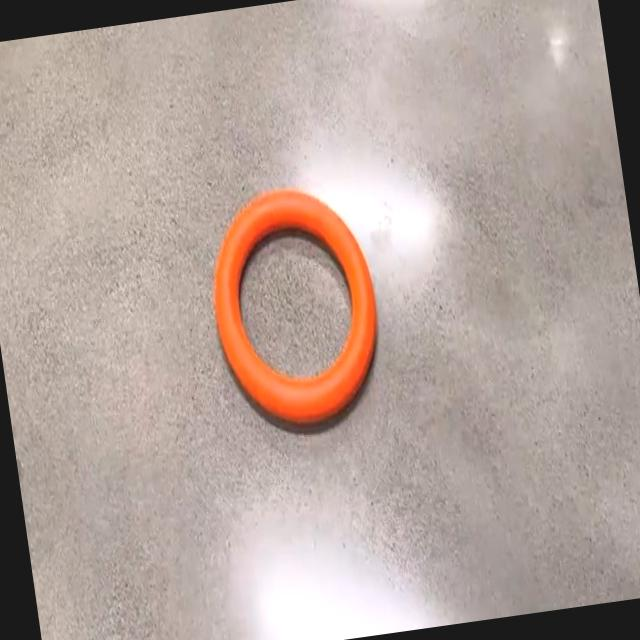note: (198, 177, 391, 436)
